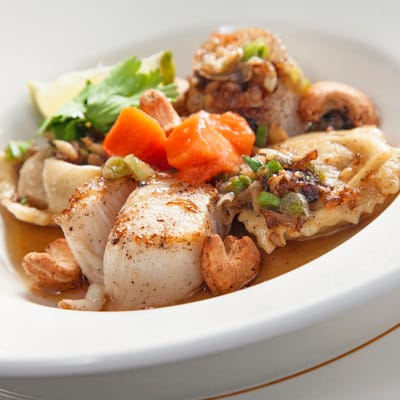pizza: (102, 106, 170, 171)
